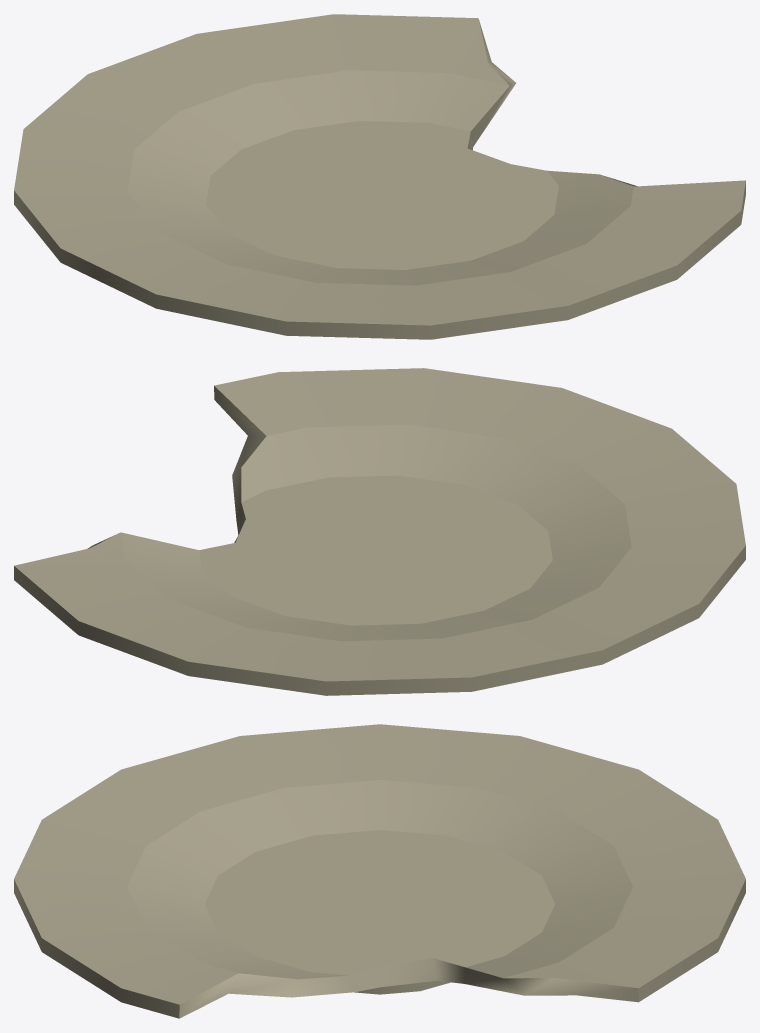
Rendered from PS_Plate02.fbx.
3 renders of one model, top to bottom at view 1: azimuth 30°, elevation 25°; view 2: azimuth 150°, elevation 25°; view 3: azimuth 270°, elevation 25°, orthographic. The views are drawn at different scales.
Parts seen in each view (by area): view 1: PS_Plate02; view 2: PS_Plate02; view 3: PS_Plate02.
Boxes of the visible parts, box(x1,y1,x2,y2) form: PS_Plate02: box(14, 14, 745, 339); PS_Plate02: box(14, 368, 745, 695); PS_Plate02: box(14, 724, 745, 1018).
Bounding box in the file's own units: 0.6614 × 0.0784 × 0.7294.
